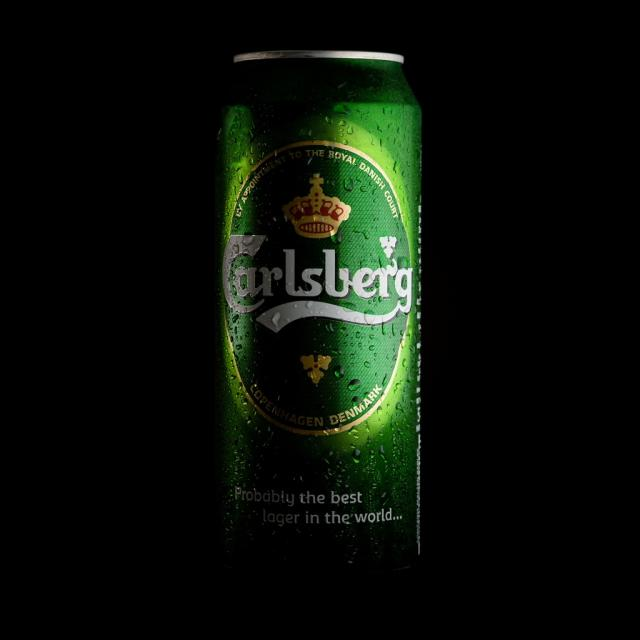carlsberg: (220, 138, 415, 439)
